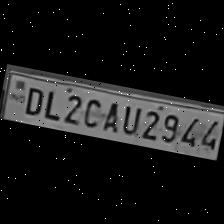2: (60, 88, 85, 125), (138, 104, 162, 141)
4: (196, 114, 222, 150), (178, 110, 202, 146)
9: (156, 108, 181, 144)
A: (98, 96, 123, 134)
C: (80, 93, 104, 129)
D: (20, 81, 46, 116)
L: (40, 84, 64, 121)
U: (118, 100, 143, 136)
